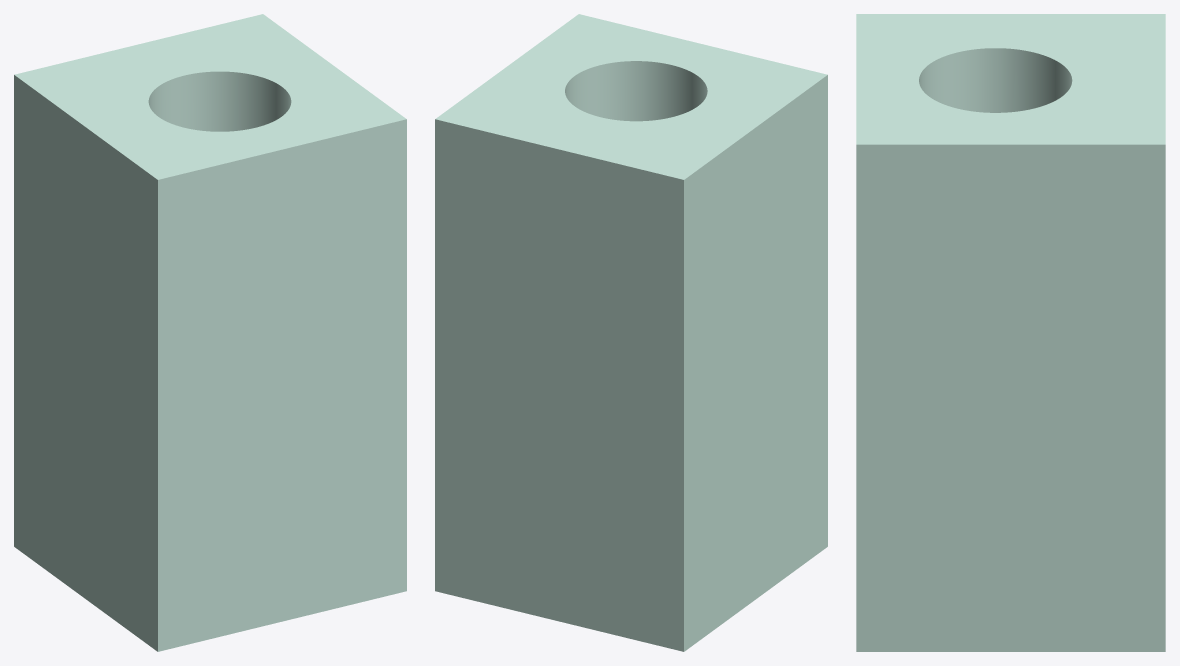
3 renders of one model, left to right at view 1: azimuth 30°, elevation 25°; view 2: azimuth 150°, elevation 25°; view 3: azimuth 270°, elevation 25°, orthographic. The views are drawn at different scales.
Visible parts, largest first — view 1: Renderer Node; view 2: Renderer Node; view 3: Renderer Node.
Boxes of the visible parts, box(x1,y1,x2,y2) form: Renderer Node: box(14, 14, 406, 651); Renderer Node: box(435, 14, 827, 651); Renderer Node: box(856, 14, 1165, 651).
Bounding box in the file's own units: 0.4141 × 0.75 × 0.4141.
